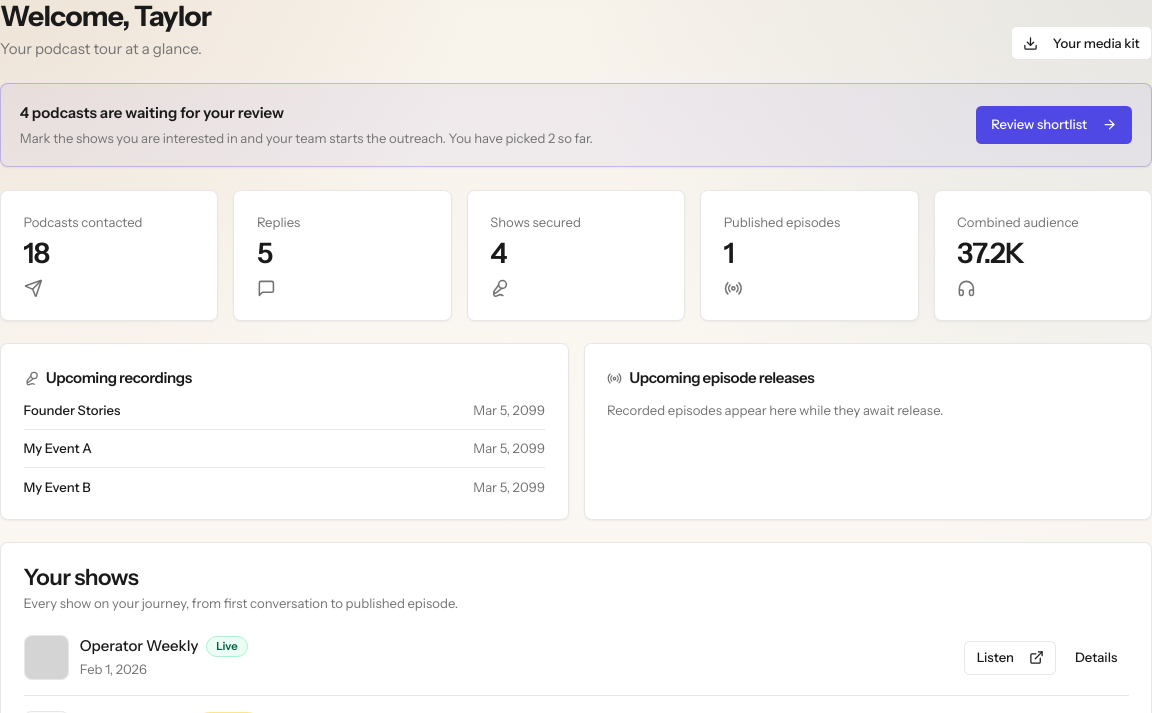
Test: PortalDashboardMvp › disarms a pending remove when a different booking is opened
Step 1. Click the button "My Event A Mar 5, 2099" → (58, 448), box [24,430,545,467]
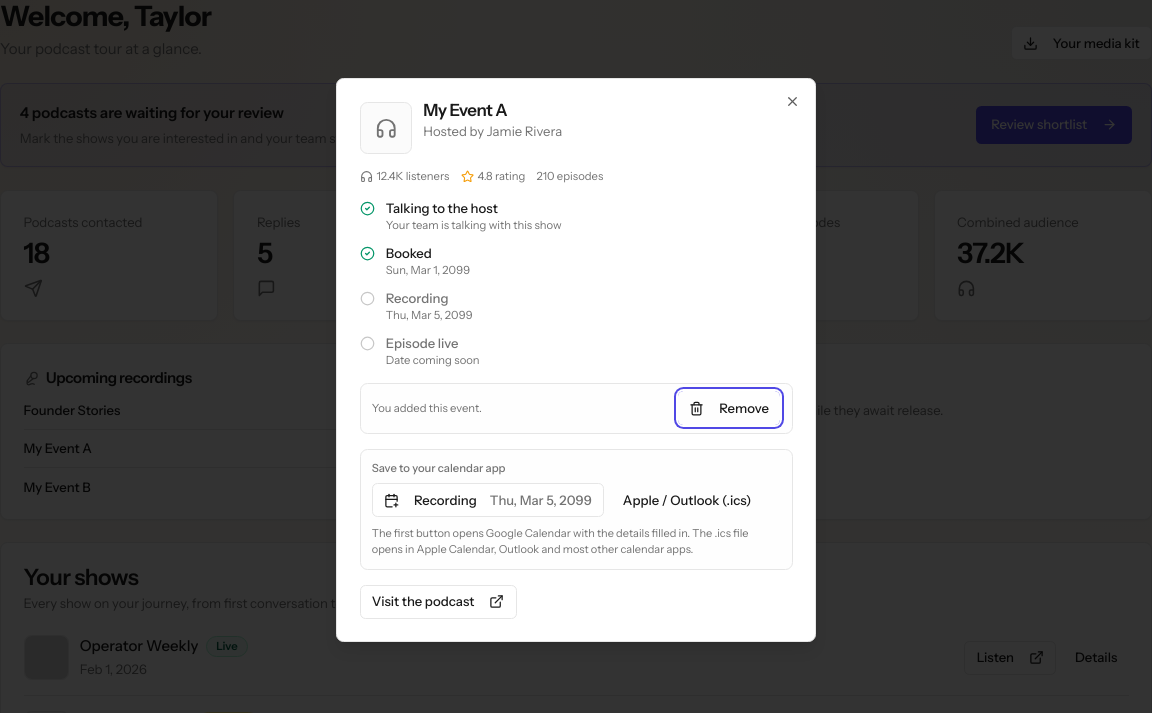
Step 2. Click the button "Remove" → (729, 408), box [678,391,780,425]
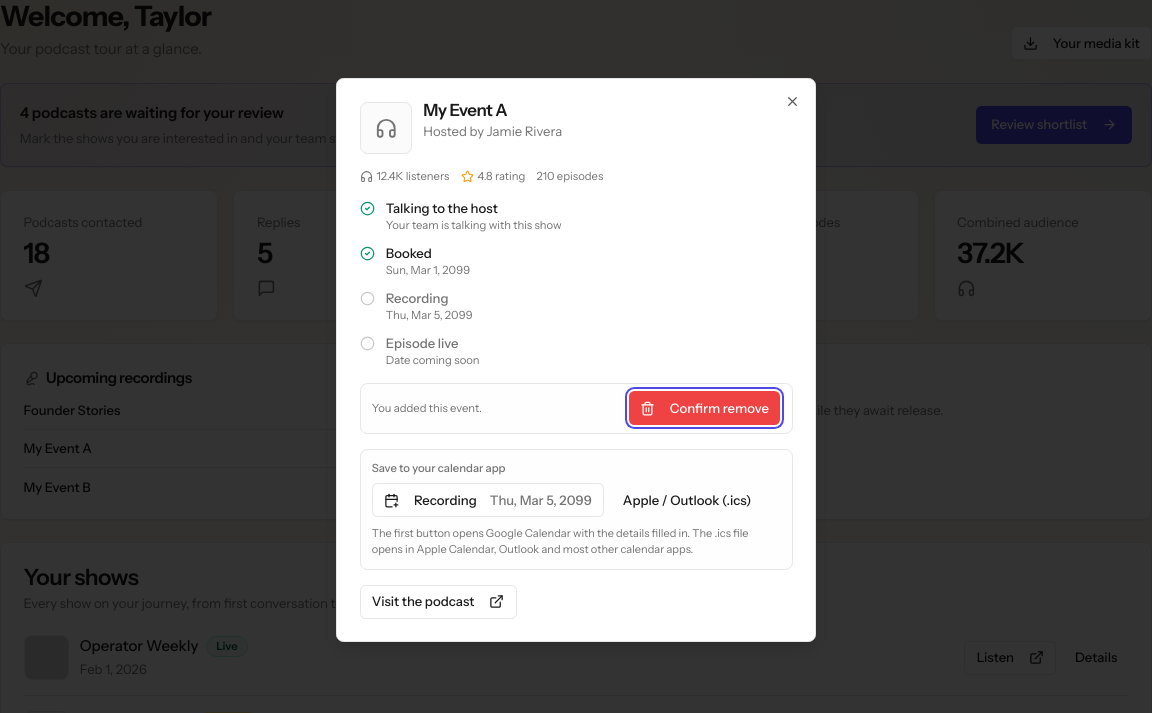
Expected: the button "Confirm remove" is shown, [629,391,780,425]
// Dismiss without confirming, then open the other event.
Step 3. Press Escape
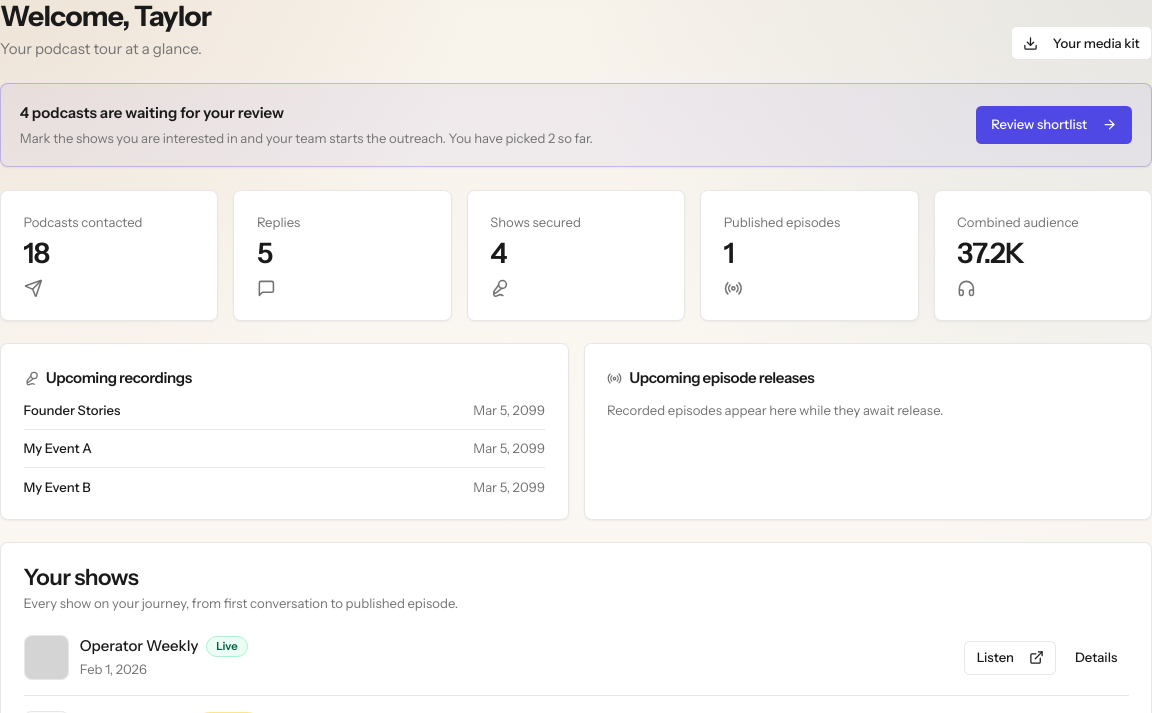
Step 4. Click the button "My Event B Mar 5, 2099" → (57, 487), box [24,468,545,496]
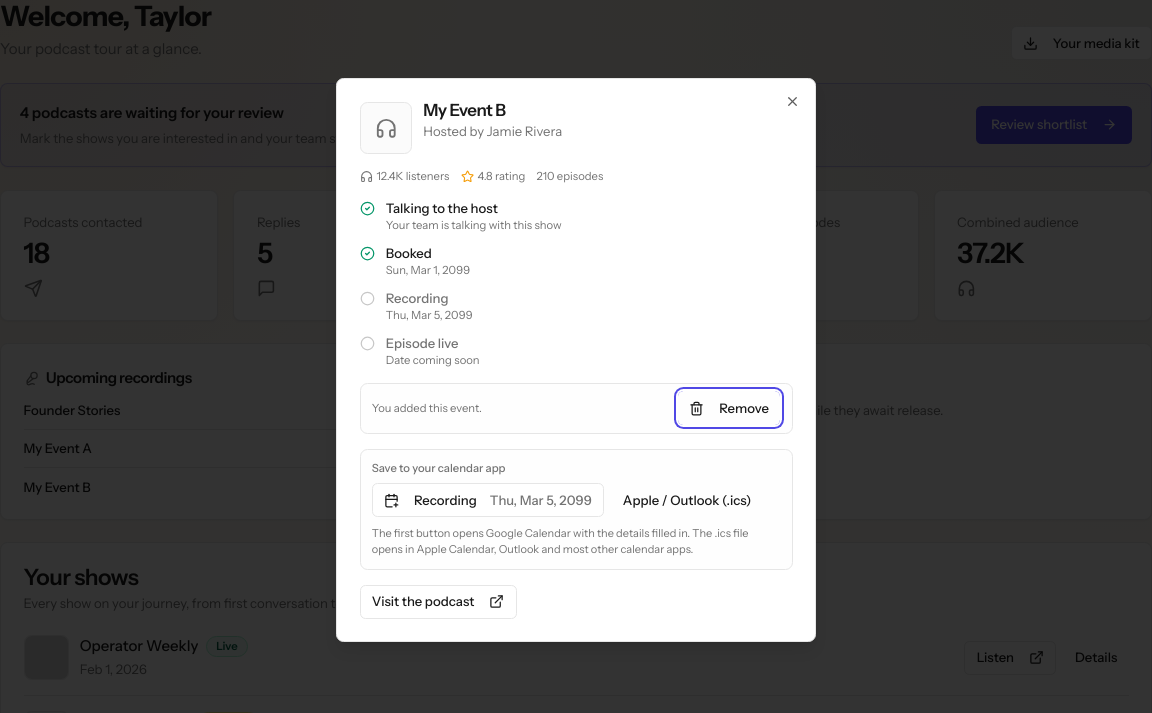
Expected: the button "Confirm remove" is not shown
Expected: the button "Remove" is shown, [678,391,780,425]
